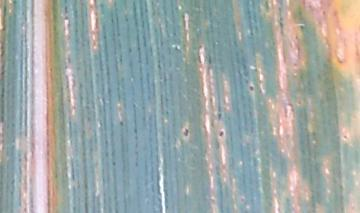tarspot: (181, 126, 191, 138), (217, 129, 225, 139), (117, 120, 127, 127), (341, 133, 350, 140), (248, 83, 253, 93)
